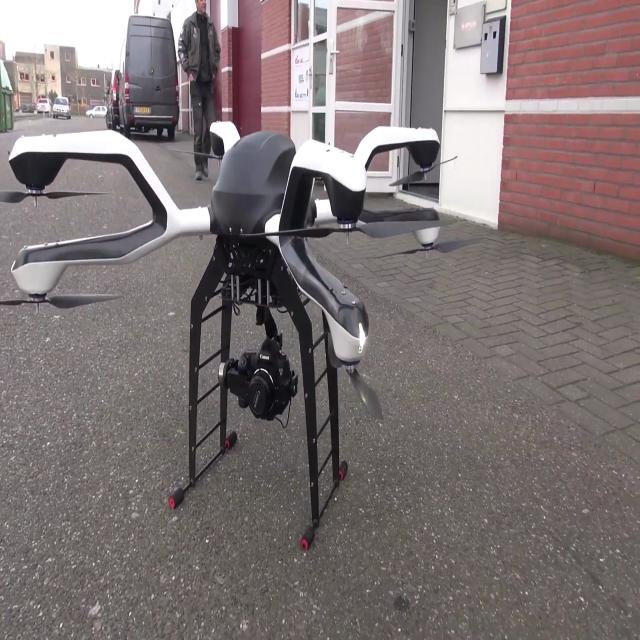drone: (2, 88, 464, 552)
